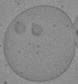small: (31, 25, 41, 36), (15, 23, 26, 33)
